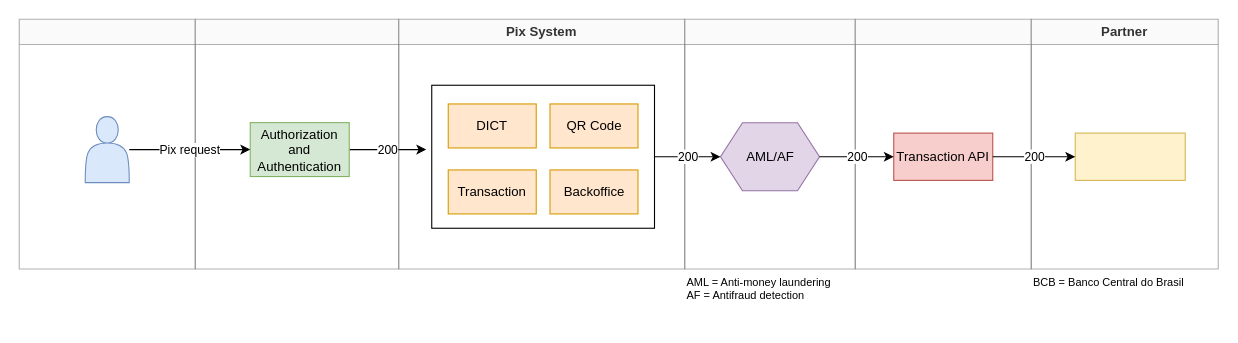
Image size: 1238x343. Some labels were removed from this diagram. Here are the shapes that lost their labels. From the top down, the box of each, then its label:
(18, 18, 195, 269): Client
(194, 18, 399, 269): API Gateway
(684, 18, 855, 269): Authorizer (Moria)
(854, 18, 1031, 269): Ledger
(1074, 132, 1185, 180): Partner System/BCB
